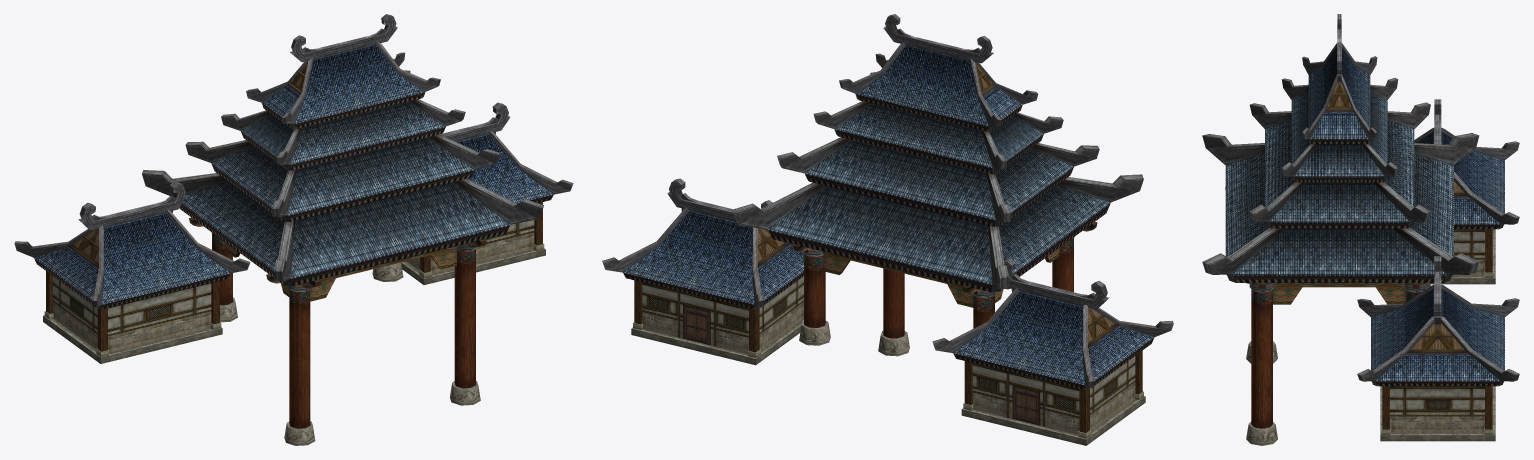
The model's file is milgyo_building03.fbx.
3 views of the same model, side by side, from view 1: azimuth 30°, elevation 25°; view 2: azimuth 150°, elevation 25°; view 3: azimuth 270°, elevation 25° (orthographic). The views are drawn at different scales.
Visible parts, largest first — view 1: milgyo_building03; view 2: milgyo_building03; view 3: milgyo_building03.
Boxes of the visible parts, x1,y1,x2,y2 form: milgyo_building03: [14, 14, 573, 445]; milgyo_building03: [602, 14, 1173, 445]; milgyo_building03: [1202, 14, 1519, 445].
Bounding box in the file's own units: 46.81 × 33.92 × 26.84.
